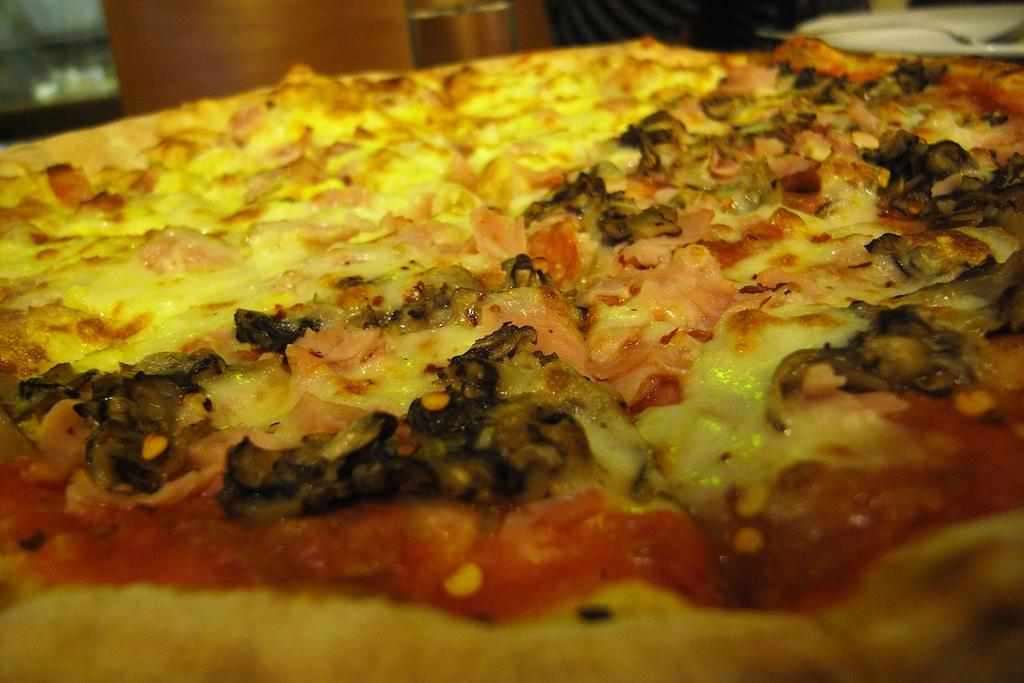Pizza: (0, 35, 1023, 682)
